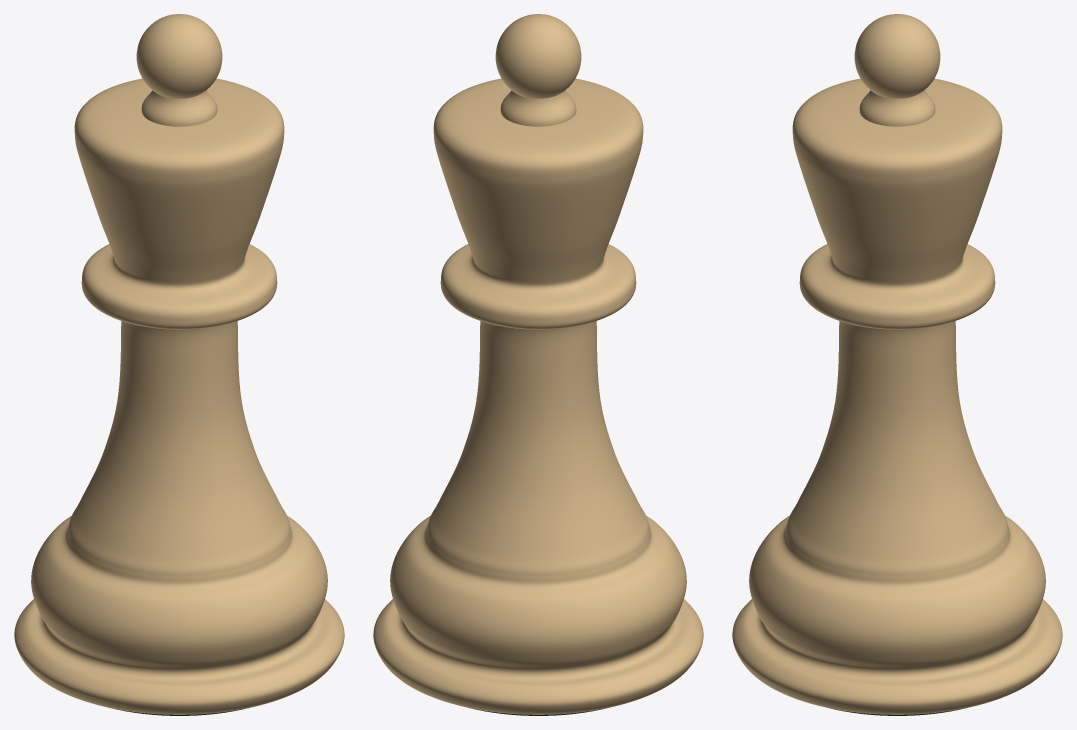
File: king.glb
3 views of the same model, side by side, from view 1: azimuth 30°, elevation 25°; view 2: azimuth 150°, elevation 25°; view 3: azimuth 270°, elevation 25° (orthographic).
Visible parts, largest first — view 1: Dubrovnik King.001; view 2: Dubrovnik King.001; view 3: Dubrovnik King.001.
Part boxes in pixels (box(x1,y1,x2,y2)): Dubrovnik King.001: box(14, 14, 344, 715); Dubrovnik King.001: box(373, 14, 703, 715); Dubrovnik King.001: box(732, 14, 1062, 715).
Bounding box in the file's own units: 0.0423 × 0.0904 × 0.0423.
